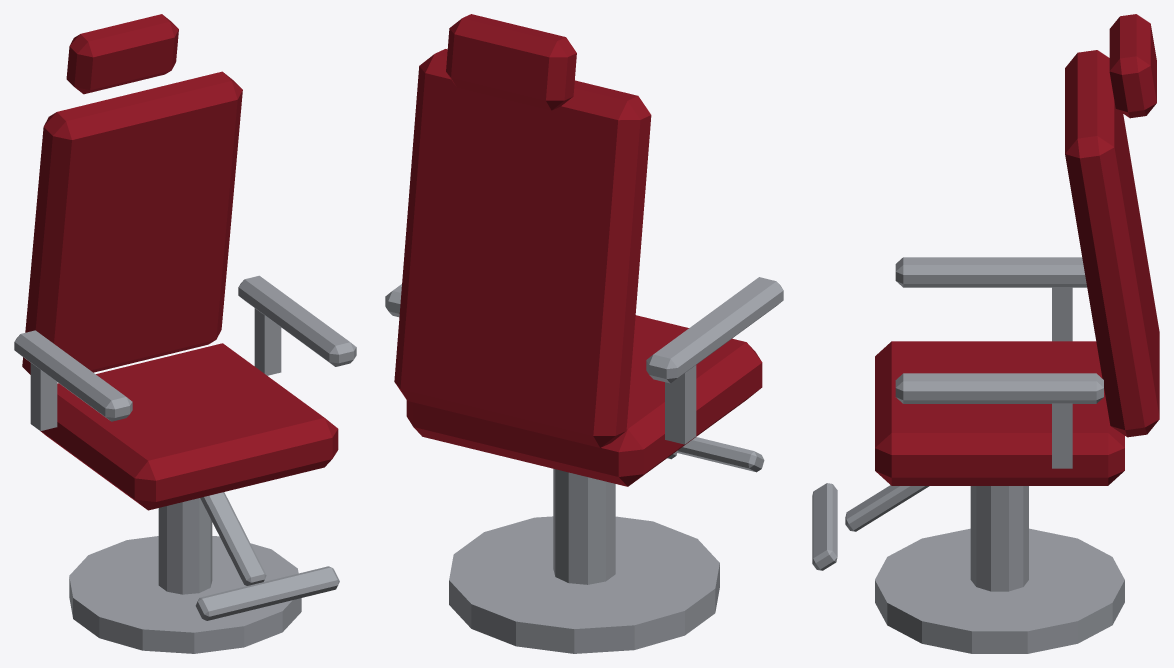
File: cadeira_barbeiro.glb
3 renders of one model, left to right at view 1: azimuth 30°, elevation 25°; view 2: azimuth 150°, elevation 25°; view 3: azimuth 270°, elevation 25°, orthographic. The views are drawn at different scales.
Visible parts, largest first — view 1: Cylinder; view 2: Cylinder; view 3: Cylinder.
Boxes of the visible parts, x1=… form: Cylinder: x1=14, y1=14, x2=356, y2=653; Cylinder: x1=385, y1=14, x2=783, y2=653; Cylinder: x1=812, y1=14, x2=1159, y2=653.
Size of the model in its own units: 0.74 by 1.5 by 0.8341.
